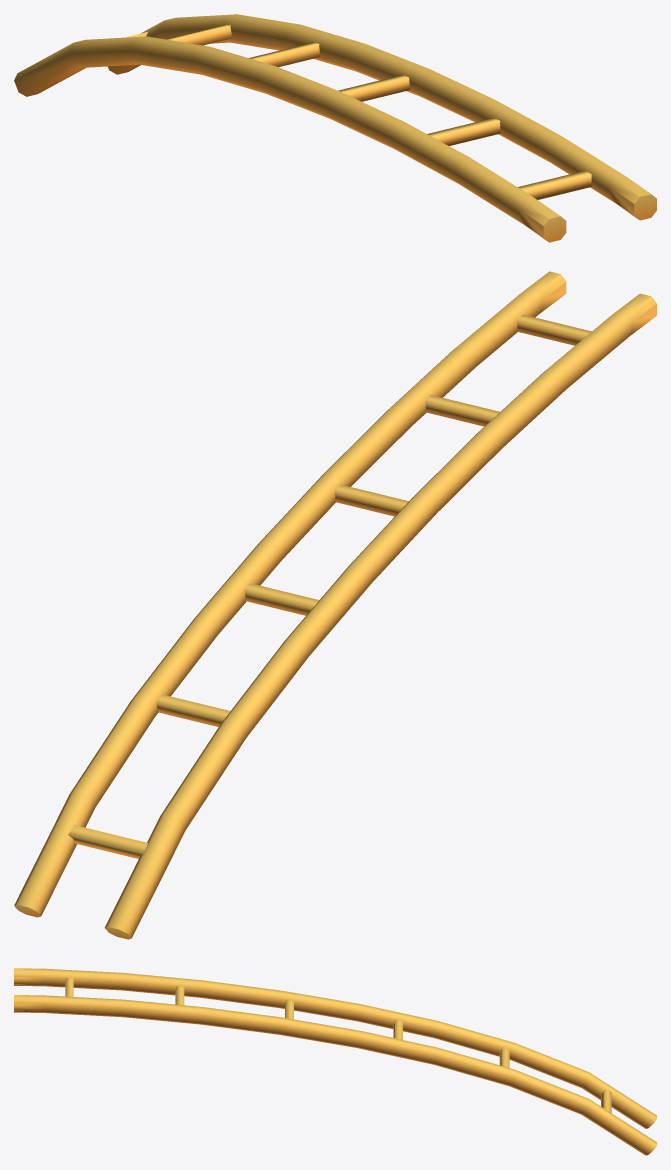
Rendered from coaster-mouse-straight-hill-end.glb.
3 renders of one model, top to bottom at view 1: azimuth 30°, elevation 25°; view 2: azimuth 150°, elevation 25°; view 3: azimuth 270°, elevation 25°, orthographic. The views are drawn at different scales.
Parts seen in each view (by area): view 1: coaster-mouse-straight-hill-end; view 2: coaster-mouse-straight-hill-end; view 3: coaster-mouse-straight-hill-end.
Boxes of the visible parts, x1,y1,x2,y2 form: coaster-mouse-straight-hill-end: [14, 14, 656, 242]; coaster-mouse-straight-hill-end: [14, 271, 656, 939]; coaster-mouse-straight-hill-end: [14, 968, 656, 1155].
Size of the model in its own units: 1.5 by 3.3 by 12.21.
Materials: 1 (1 with a texture image).
